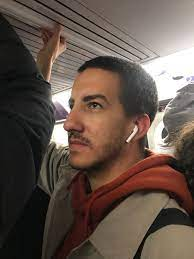earphone: (126, 114, 152, 145)
